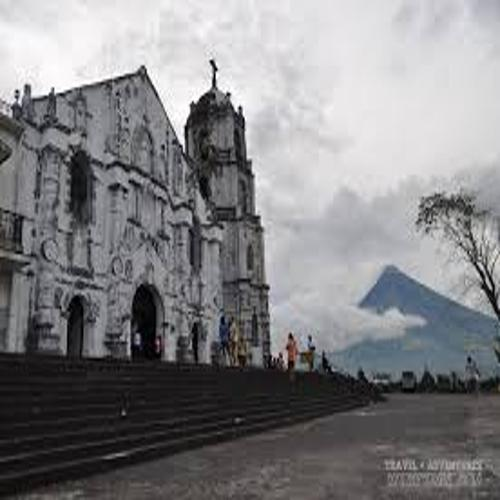Daraga Church: (19, 28, 282, 375)
